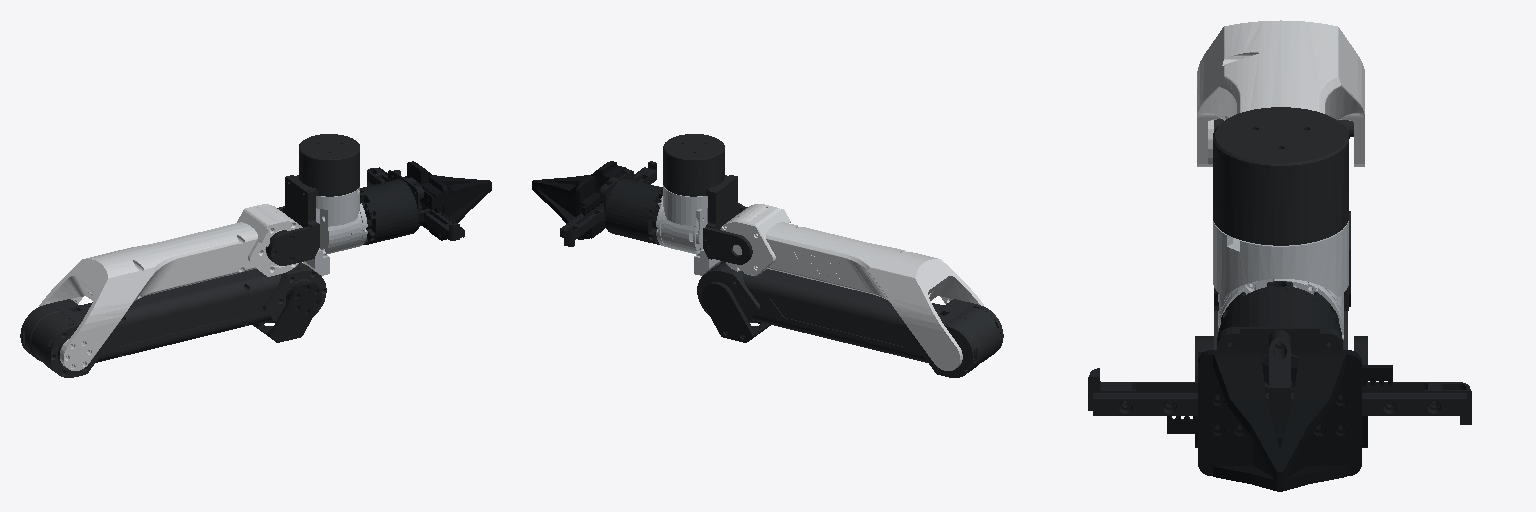
URDF robot description (X5A):
<?xml version="1.0" encoding="utf-8"?>
<!-- This URDF was automatically created by SolidWorks to URDF Exporter! Originally created by Stephen Brawner (brawner@gmail.com)
     Commit Version: 1.6.0-4-g7f85cfe  Build Version: 1.6.7995.38578
     For more information, please see http://wiki.ros.org/sw_urdf_exporter -->
<!-- AC-One meshes are used only by the visual elements. Joint frames, inertials,
     limits, and collision meshes remain the original X5A definitions. -->
<robot
  name="X5A">
  <link
    name="base_link">
    <inertial>
      <origin
        xyz="-3.0001E-05 3.0589E-05 0.027324"
        rpy="0 0 0" />
      <mass
        value="0.43995" />
      <inertia
        ixx="0.00017"
        ixy="0.00000"
        ixz="0.00000"
        iyy="0.00017"
        iyz="0.00000"
        izz="0.00016" />
    </inertial>
    <visual>
      <origin
        xyz="0 0 0"
        rpy="0 0 0" />
      <geometry>
        <mesh
          filename="package://X5A/meshes/base_link.STL" />
      </geometry>
      <material
        name="">
        <color
          rgba="0.12 0.13 0.14 1" />
      </material>
    </visual>
    <collision>
      <origin
        xyz="0 0 0"
        rpy="0 0 0" />
      <geometry>
        <mesh
          filename="package://X5A/meshes/base_link.STL" />
      </geometry>
    </collision>
  </link>
  <link
    name="link1">
    <inertial>
      <origin
        xyz="0.0054231 -0.0080289 0.017086"
        rpy="0 0 0" />
      <mass
        value="0.066982" />
      <inertia
        ixx="0.00008"
        ixy="0.00000"
        ixz="0.00001"
        iyy="0.00003"
        iyz="0.00000"
        izz="0.00008" />
    </inertial>
    <visual>
      <origin
        xyz="0 0 0"
        rpy="0 0 0" />
      <geometry>
        <mesh
          filename="package://X5A/meshes/x5_one_link1.STL" />
      </geometry>
      <material
        name="">
        <color
          rgba="0.16 0.17 0.18 1" />
      </material>
    </visual>
    <collision>
      <origin
        xyz="0 0 0"
        rpy="0 0 0" />
      <geometry>
        <mesh
          filename="package://X5A/meshes/link1.STL" />
      </geometry>
    </collision>
  </link>
  <joint
    name="joint1"
    type="revolute">
    <origin
      xyz="0 0 0.0605"
      rpy="0 0 0" />
    <parent
      link="base_link" />
    <child
      link="link1" />
    <axis
      xyz="0 0 1" />
    <limit
      lower="-2.617993878"
      upper="3.141592654"
      effort="100"
      velocity="1000" />
  </joint>
  <link
    name="link2">
    <inertial>
      <origin
        xyz="-0.13237 0.0020852 0.00010549"
        rpy="0 0 0" />
      <mass
        value="1.0795" />
      <inertia
        ixx="0.00051"
        ixy="0.00001"
        ixz="-0.00004"
        iyy="0.01599"
        iyz="0.00000"
        izz="0.01605" />
    </inertial>
    <visual>
      <origin
        xyz="0 0 0"
        rpy="0 0 0" />
      <geometry>
        <mesh
          filename="package://X5A/meshes/x5_one_link2.STL" />
      </geometry>
      <material
        name="">
        <color
          rgba="0.20 0.21 0.22 1" />
      </material>
    </visual>
    <collision>
      <origin
        xyz="0 0 0"
        rpy="0 0 0" />
      <geometry>
        <mesh
          filename="package://X5A/meshes/link2.STL" />
      </geometry>
    </collision>
  </link>
  <joint
    name="joint2"
    type="revolute">
    <origin
      xyz="0.02 0 0.04"
      rpy="0 0 0" />
    <parent
      link="link1" />
    <child
      link="link2" />
    <axis
      xyz="0 1 0" />
    <limit
      lower="0.0"
      upper="3.665191429"
      effort="100"
      velocity="1000" />
  </joint>
  <link
    name="link3">
    <inertial>
      <origin
        xyz="0.18531 0.00068376 -0.051638"
        rpy="0 0 0" />
      <mass
        value="0.54534" />
      <inertia
        ixx="0.00036"
        ixy="-0.00003"
        ixz="-0.00039"
        iyy="0.00423"
        iyz="0.00001"
        izz="0.00420" />
    </inertial>
    <visual>
      <origin
        xyz="0 -0.00003 0"
        rpy="3.1416 0 0" />
      <geometry>
        <mesh
          filename="package://X5A/meshes/x5_one_link3.STL" />
      </geometry>
      <material
        name="">
        <color
          rgba="0.82 0.83 0.84 1" />
      </material>
    </visual>
    <collision>
      <origin
        xyz="0 0 0"
        rpy="0 0 0" />
      <geometry>
        <mesh
          filename="package://X5A/meshes/link3.STL" />
      </geometry>
    </collision>
  </link>
  <joint
    name="joint3"
    type="revolute">
    <origin
      xyz="-0.264 0 0"
      rpy="3.1416 0 0" />
    <parent
      link="link2" />
    <child
      link="link3" />
    <axis
      xyz="0 1 0" />
    <limit
      lower="0.0"
      upper="3.141592654"
      effort="100"
      velocity="1000" />
  </joint>
  <link
    name="link4">
    <inertial>
      <origin
        xyz="0.040231 0.0044807 -0.035335"
        rpy="0 0 0" />
      <mass
        value="0.11714" />
      <inertia
        ixx="0.00019"
        ixy="-0.00002"
        ixz="-0.00009"
        iyy="0.00023"
        iyz="0.00002"
        izz="0.00014" />
    </inertial>
    <visual>
      <origin
        xyz="0 0 0"
        rpy="3.1416 0 0" />
      <geometry>
        <mesh
          filename="package://X5A/meshes/x5_one_link4.STL" />
      </geometry>
      <material
        name="">
        <color
          rgba="0.18 0.19 0.20 1" />
      </material>
    </visual>
    <collision>
      <origin
        xyz="0 0 0"
        rpy="0 0 0" />
      <geometry>
        <mesh
          filename="package://X5A/meshes/link4.STL" />
      </geometry>
    </collision>
  </link>
  <joint
    name="joint4"
    type="revolute">
    <origin
      xyz="0.245 0 -0.056"
      rpy="0 0 0" />
    <parent
      link="link3" />
    <child
      link="link4" />
    <axis
      xyz="0 1 0" />
    <limit
      lower="-1.570796327"
      upper="1.570796327"
      effort="100"
      velocity="1000" />
  </joint>
  <link
    name="link5">
    <inertial>
      <origin
        xyz="0.003612 -1.5455E-05 0.055214"
        rpy="0 0 0" />
      <mass
        value="0.63488" />
      <inertia
        ixx="0.00083"
        ixy="0.00000"
        ixz="0.00007"
        iyy="0.00082"
        iyz="0.00000"
        izz="0.00026" />
    </inertial>
    <visual>
      <origin
        xyz="0 -0.0005 0.002"
        rpy="3.1416 0 0" />
      <geometry>
        <mesh
          filename="package://X5A/meshes/x5_one_link5.STL" />
      </geometry>
      <material
        name="">
        <color
          rgba="0.72 0.74 0.76 1" />
      </material>
    </visual>
    <collision>
      <origin
        xyz="0 0 0"
        rpy="0 0 0" />
      <geometry>
        <mesh
          filename="package://X5A/meshes/link5.STL" />
      </geometry>
    </collision>
  </link>
  <joint
    name="joint5"
    type="revolute">
    <origin
      xyz="0.06775 0.0005 -0.0865"
      rpy="0 0 0" />
    <parent
      link="link4" />
    <child
      link="link5" />
    <axis
      xyz="0 0 1" />
    <limit
      lower="-1.570796327"
      upper="1.570796327"
      effort="100"
      velocity="1000" />
  </joint>
  <link
    name="link6">
    <inertial>
      <origin
        xyz="0.041697 2.4368E-05 0.00014464"
        rpy="0 0 0" />
      <mass
        value="0.44089" />
      <inertia
        ixx="0.00038"
        ixy="0.00000"
        ixz="0.00000"
        iyy="0.00028"
        iyz="0.00000"
        izz="0.00050" />
    </inertial>
    <visual>
      <origin
        xyz="0 0 0"
        rpy="0 0 0" />
      <geometry>
        <mesh
          filename="package://X5A/meshes/link6.STL" />
      </geometry>
      <material
        name="">
        <color
          rgba="0.16 0.17 0.18 1" />
      </material>
    </visual>
    <collision>
      <origin
        xyz="0 0 0"
        rpy="0 0 0" />
      <geometry>
        <mesh
          filename="package://X5A/meshes/link6.STL" />
      </geometry>
    </collision>
  </link>
  <joint
    name="joint6"
    type="revolute">
    <origin
      xyz="0.02895 0 0.0865"
      rpy="-3.1416 0 0" />
    <parent
      link="link5" />
    <child
      link="link6" />
    <axis
      xyz="1 0 0" />
    <limit
      lower="-2.094395102"
      upper="2.094395102"
      effort="100"
      velocity="1000" />
  </joint>
  <link
    name="link7">
    <inertial>
      <origin
        xyz="-0.00035522 -0.007827 -0.0029883"
        rpy="0 0 0" />
      <mass
        value="0.064798" />
      <inertia
        ixx="0.00002"
        ixy="0.00000"
        ixz="0.00000"
        iyy="0.00003"
        iyz="0.00000"
        izz="0.00003" />
    </inertial>
    <visual>
      <origin
        xyz="0 0 0"
        rpy="0 0 0" />
      <geometry>
        <mesh
          filename="package://X5A/meshes/link7.STL" />
      </geometry>
      <material
        name="">
        <color
          rgba="0.12 0.13 0.14 1" />
      </material>
    </visual>
    <collision>
      <origin
        xyz="0 0 0"
        rpy="0 0 0" />
      <geometry>
        <mesh
          filename="package://X5A/meshes/link7.STL" />
      </geometry>
    </collision>
  </link>
  <joint
    name="joint7"
    type="prismatic">
    <origin
      xyz="0.08657 0.024896 -0.0002436"
      rpy="0 0 0" />
    <parent
      link="link6" />
    <child
      link="link7" />
    <axis
      xyz="0 1 0" />
    <limit
      lower="0"
      upper="0.044"
      effort="100"
      velocity="1000" />
  </joint>
  <link
    name="link8">
    <inertial>
      <origin
        xyz="-0.00035522 0.0078277 0.0024201"
        rpy="0 0 0" />
      <mass
        value="0.064798" />
      <inertia
        ixx="0.00002"
        ixy="0.00000"
        ixz="0.00000"
        iyy="0.00003"
        iyz="0.00000"
        izz="0.00003" />
    </inertial>
    <visual>
      <origin
        xyz="0 0 0"
        rpy="0 0 0" />
      <geometry>
        <mesh
          filename="package://X5A/meshes/link8.STL" />
      </geometry>
      <material
        name="">
        <color
          rgba="0.12 0.13 0.14 1" />
      </material>
    </visual>
    <collision>
      <origin
        xyz="0 0 0"
        rpy="0 0 0" />
      <geometry>
        <mesh
          filename="package://X5A/meshes/link8.STL" />
      </geometry>
    </collision>
  </link>
  <joint
    name="joint8"
    type="prismatic">
    <origin
      xyz="0.08657 -0.0249 -0.00024366"
      rpy="0 0 0" />
    <parent
      link="link6" />
    <child
      link="link8" />
    <axis
      xyz="0 -1 0" />
    <limit
      lower="0"
      upper="0.044"
      effort="100"
      velocity="1000" />
  </joint>
  <link name="tcp" />
  <joint name="eef_to_tcp" type="fixed">
    <origin xyz="0.1566575 0 -0.00014" rpy="0 1.570796327 0" />
    <parent link="link6" />
    <child link="tcp" />
  </joint>
</robot>

--- Facts derived from the render (not from the file) ---
The picture shows the robot from 3 angles, left to right: view 1: azimuth 30°, elevation 25°; view 2: azimuth 150°, elevation 25°; view 3: azimuth 270°, elevation 25°; orthographic projection.
Robot: X5A — 10 links, 9 joints (6 revolute, 2 prismatic, 1 fixed); root link base_link; default pose: all joints at 0.
Links seen in each view (by area): view 1: link3, link2, link4, link6, link5, link1, link8, link7; view 2: link3, link2, link4, link6, link5, link1, link7, link8; view 3: link4, link6, link3, link8, link7, link5, link1.
Boxes of the visible links, bbox=[...] form: link3: bbox=[39, 204, 302, 370]; link2: bbox=[20, 262, 326, 377]; link4: bbox=[266, 134, 359, 265]; link6: bbox=[360, 167, 464, 244]; link5: bbox=[303, 187, 367, 275]; link1: bbox=[253, 280, 321, 342]; link8: bbox=[388, 170, 491, 240]; link7: bbox=[404, 161, 489, 237]; link3: bbox=[720, 204, 984, 370]; link2: bbox=[697, 261, 1003, 377]; link4: bbox=[663, 134, 752, 264]; link6: bbox=[560, 161, 662, 246]; link5: bbox=[656, 185, 721, 275]; link1: bbox=[702, 282, 770, 342]; link7: bbox=[532, 175, 605, 239]; link8: bbox=[533, 161, 628, 215]; link4: bbox=[1213, 107, 1350, 310]; link6: bbox=[1088, 281, 1471, 449]; link3: bbox=[1197, 20, 1364, 166]; link8: bbox=[1198, 350, 1392, 491]; link7: bbox=[1167, 350, 1361, 491]; link5: bbox=[1213, 221, 1348, 339]; link1: bbox=[1195, 336, 1367, 447].
Size in the robot's own frame: 0.5273 by 0.174 by 0.1825 metres.
Meshes: 9 distinct files referenced, 8 mesh visuals loaded (8 binary STL); not drawn: 1 (reference not matched to a file when rendering).
